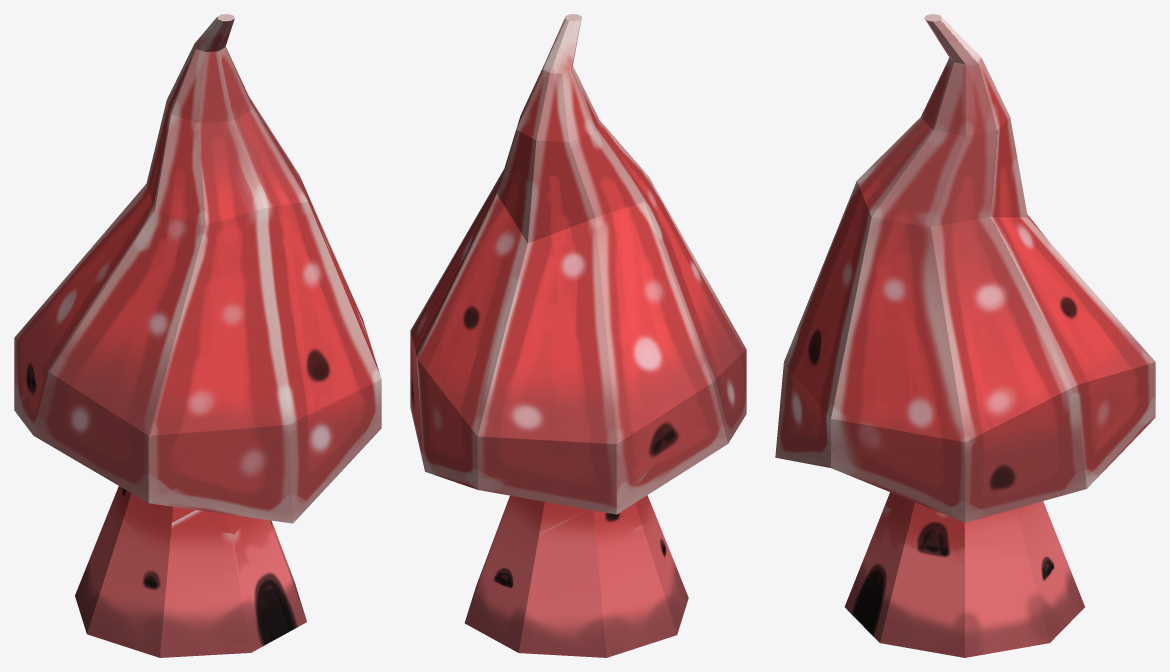
Rendered from Mushroom House 3.fbx.
The picture shows the model from 3 angles, left to right: view 1: azimuth 30°, elevation 25°; view 2: azimuth 150°, elevation 25°; view 3: azimuth 270°, elevation 25°; orthographic projection. The views are drawn at different scales.
Visible parts, largest first — view 1: Cylinder.001; view 2: Cylinder.001; view 3: Cylinder.001.
Boxes of the visible parts, bbox=[...] form: Cylinder.001: bbox=[14, 14, 381, 657]; Cylinder.001: bbox=[410, 14, 746, 657]; Cylinder.001: bbox=[775, 14, 1155, 657].
Bounding box in the file's own units: 232 × 403 × 232.
